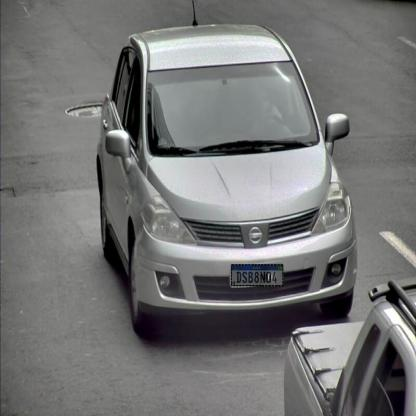PlacaM: (231, 264, 283, 286)
